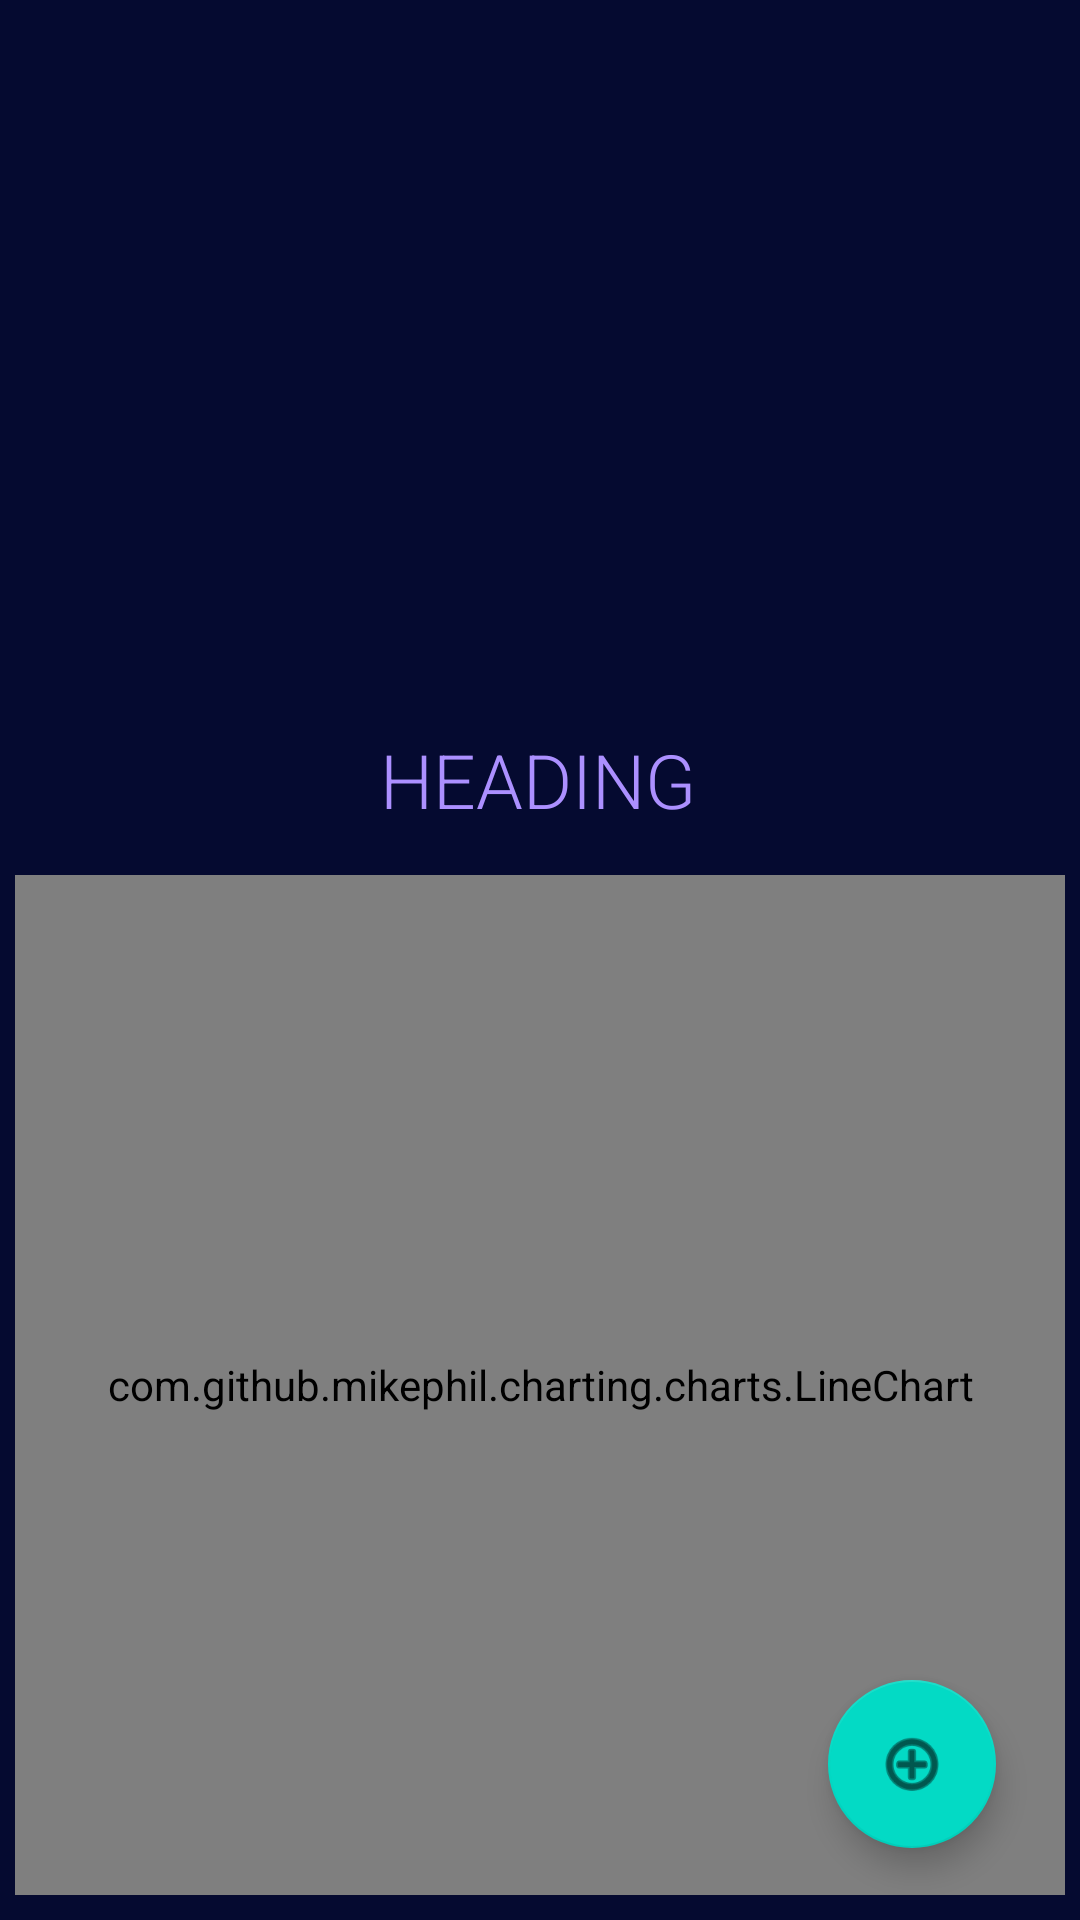

Screen size 1080 × 1920. Icon name, then its center in pixels as (x,y):
add: (912,1764)
